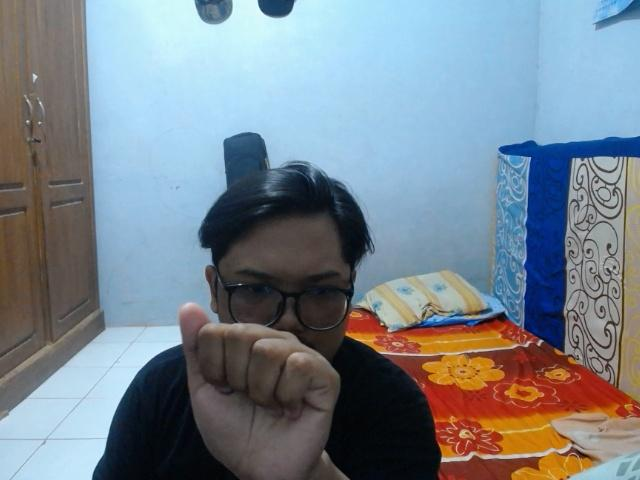Grab: (172, 294, 347, 480)
